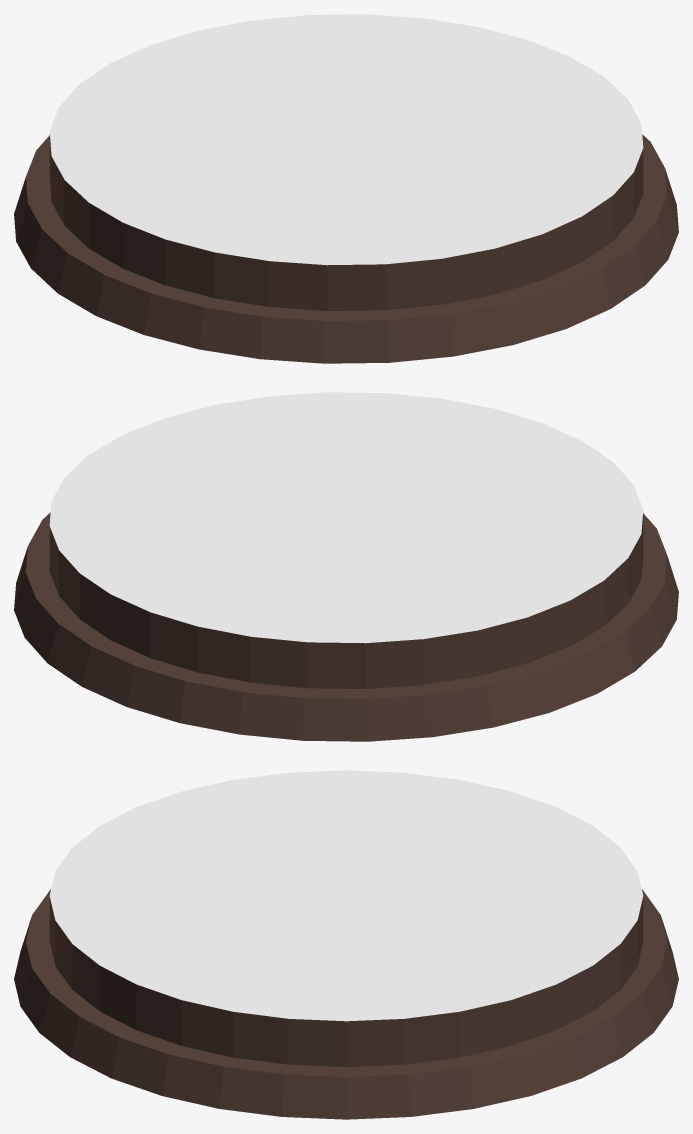
File: VerMana02.glb
The picture shows the model from 3 angles, top to bottom: view 1: azimuth 30°, elevation 25°; view 2: azimuth 150°, elevation 25°; view 3: azimuth 270°, elevation 25°; orthographic projection.
Visible parts, largest first — view 1: VerMana02; view 2: VerMana02; view 3: VerMana02.
Boxes of the visible parts, box(x1,y1,x2,y2) form: VerMana02: box(14, 14, 678, 363); VerMana02: box(14, 392, 678, 741); VerMana02: box(14, 770, 678, 1119).
Bounding box in the file's own units: 2.17 × 0.3 × 2.17.
